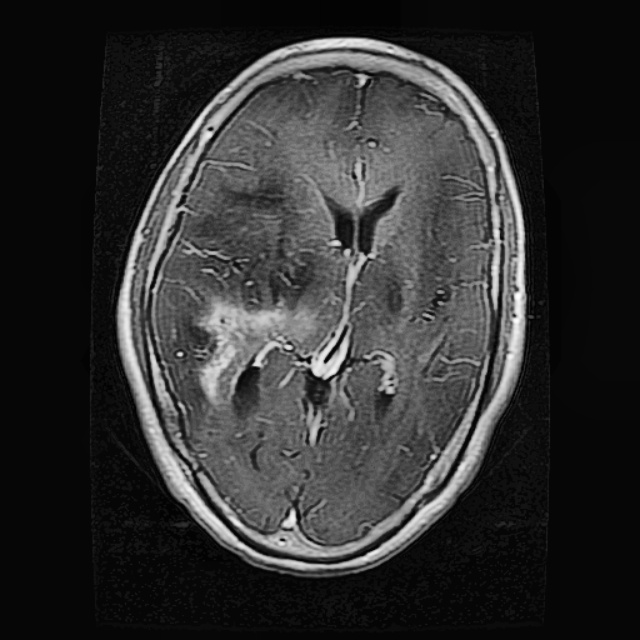Meningioma: (188, 280, 305, 414)
